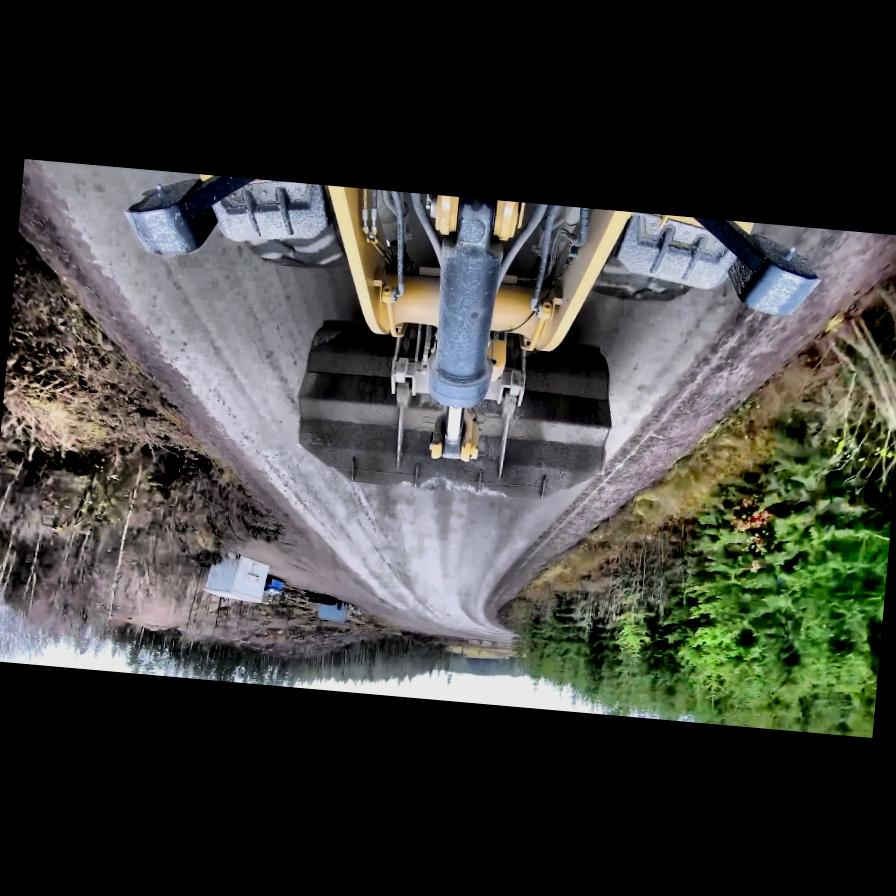anchor: (428, 402, 479, 463)
